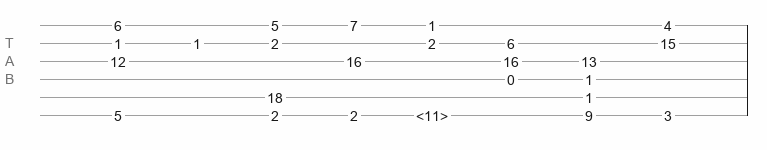0: (507, 72, 515, 82)
1: (114, 36, 122, 46), (193, 36, 201, 46), (428, 18, 436, 28), (585, 90, 593, 100), (585, 72, 593, 82)
12: (110, 54, 126, 64)
13: (581, 54, 597, 64)
15: (660, 36, 676, 46)
16: (346, 54, 362, 64), (503, 54, 519, 64)
18: (267, 90, 283, 100)
2: (271, 108, 279, 118), (271, 36, 279, 46), (350, 108, 358, 118), (428, 36, 436, 46)
3: (664, 108, 672, 118)
4: (664, 18, 672, 28)
5: (114, 108, 122, 118), (271, 18, 279, 28)
6: (114, 18, 122, 28), (507, 36, 515, 46)
7: (350, 18, 358, 28)
9: (585, 108, 593, 118)
harmonic: (416, 108, 448, 118)
